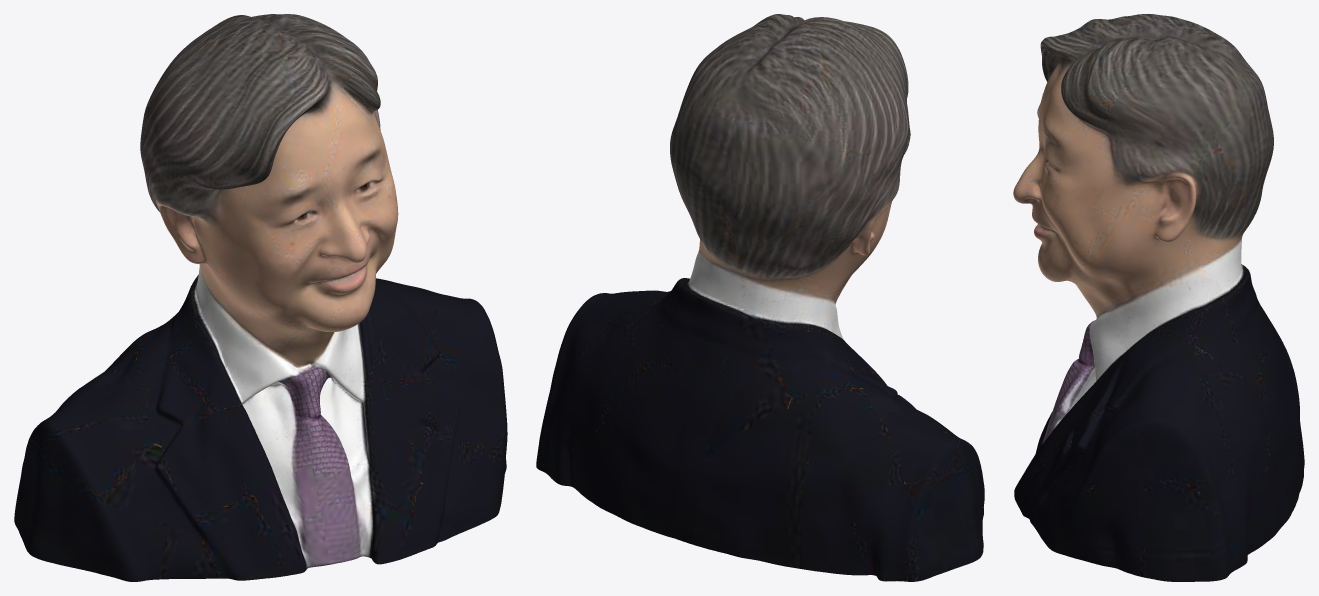
Rendered from portrait_compressed.glb.
3 renders of one model, left to right at view 1: azimuth 30°, elevation 25°; view 2: azimuth 150°, elevation 25°; view 3: azimuth 270°, elevation 25°, orthographic. The views are drawn at different scales.
Bounding box in the file's own units: 1.85 × 1.9 × 1.11.
Materials: 1 (1 with a texture image).
